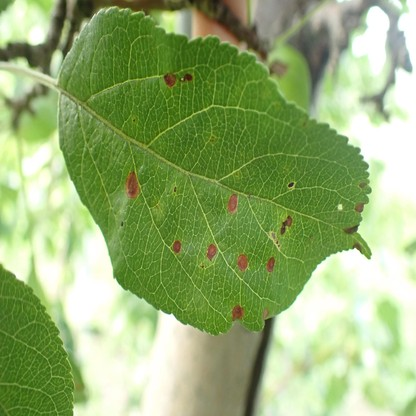frogeye: (164, 73, 192, 86), (126, 174, 140, 199), (281, 216, 292, 234), (232, 306, 244, 322), (228, 194, 238, 213), (237, 255, 248, 272), (208, 244, 216, 260), (344, 225, 358, 234), (267, 257, 275, 272), (173, 241, 181, 255), (353, 243, 362, 253), (356, 203, 364, 212), (359, 182, 367, 189), (263, 309, 268, 319)
